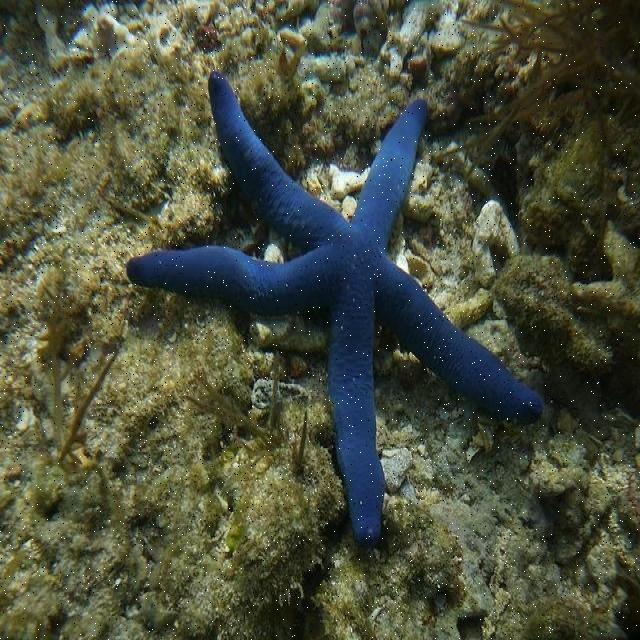reefs: (125, 69, 545, 547)
